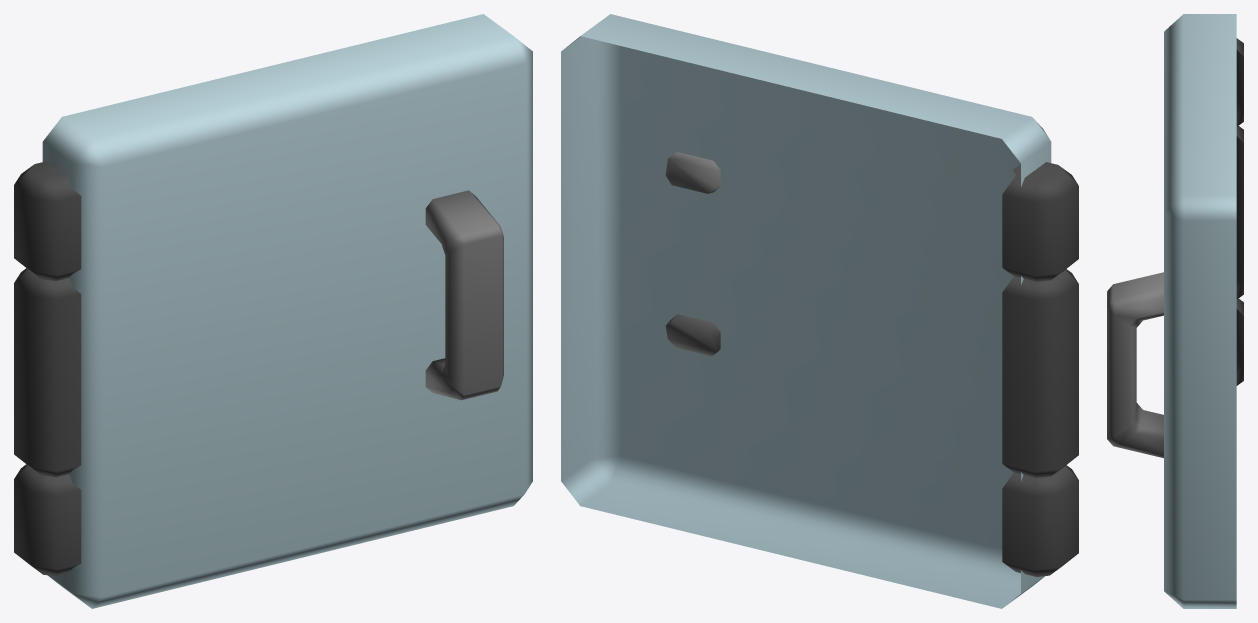
Rendered from SM_Factory_Panel_01.fbx.
3 renders of one model, left to right at view 1: azimuth 30°, elevation 25°; view 2: azimuth 150°, elevation 25°; view 3: azimuth 270°, elevation 25°, orthographic. The views are drawn at different scales.
Visible parts, largest first — view 1: pCube17; view 2: pCube17; view 3: pCube17.
Boxes of the visible parts, x1,y1,x2,y2 form: pCube17: [14, 14, 532, 608]; pCube17: [561, 14, 1078, 608]; pCube17: [1107, 14, 1243, 608].
Bounding box in the file's own units: 55.69 × 15.19 × 50.65.
